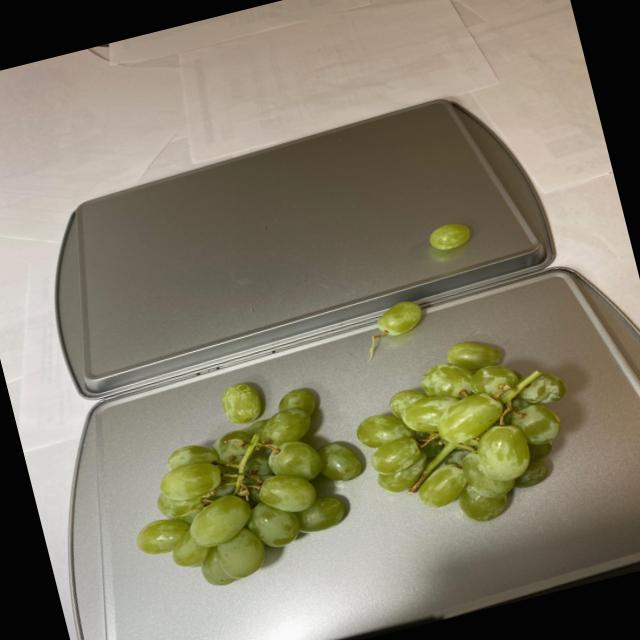grapes: (100, 307, 598, 610), (366, 294, 433, 347), (421, 215, 481, 256)
